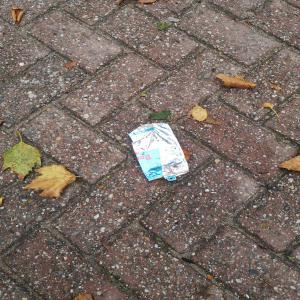Can: (125, 121, 195, 186)
